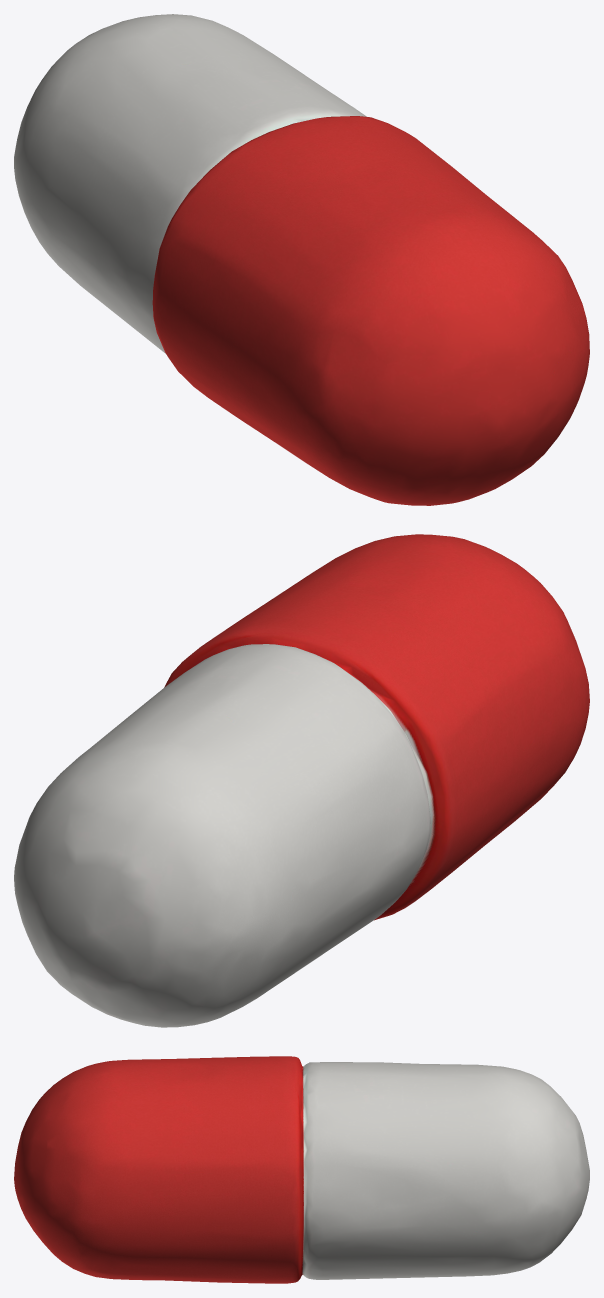
File: redPill.glb
3 views of the same model, one above another, from view 1: azimuth 30°, elevation 25°; view 2: azimuth 150°, elevation 25°; view 3: azimuth 270°, elevation 25° (orthographic). The views are drawn at different scales.
Visible parts, largest first — view 1: tripo_node_56316a8f-d551-4204-976a-c645b9464b5f; view 2: tripo_node_56316a8f-d551-4204-976a-c645b9464b5f; view 3: tripo_node_56316a8f-d551-4204-976a-c645b9464b5f.
Boxes of the visible parts, bbox=[...] form: tripo_node_56316a8f-d551-4204-976a-c645b9464b5f: bbox=[14, 14, 589, 505]; tripo_node_56316a8f-d551-4204-976a-c645b9464b5f: bbox=[14, 534, 589, 1027]; tripo_node_56316a8f-d551-4204-976a-c645b9464b5f: bbox=[14, 1056, 589, 1283].
Size of the model in its own units: 0.1447 by 0.1328 by 0.343.
1 material, 1 textured.
